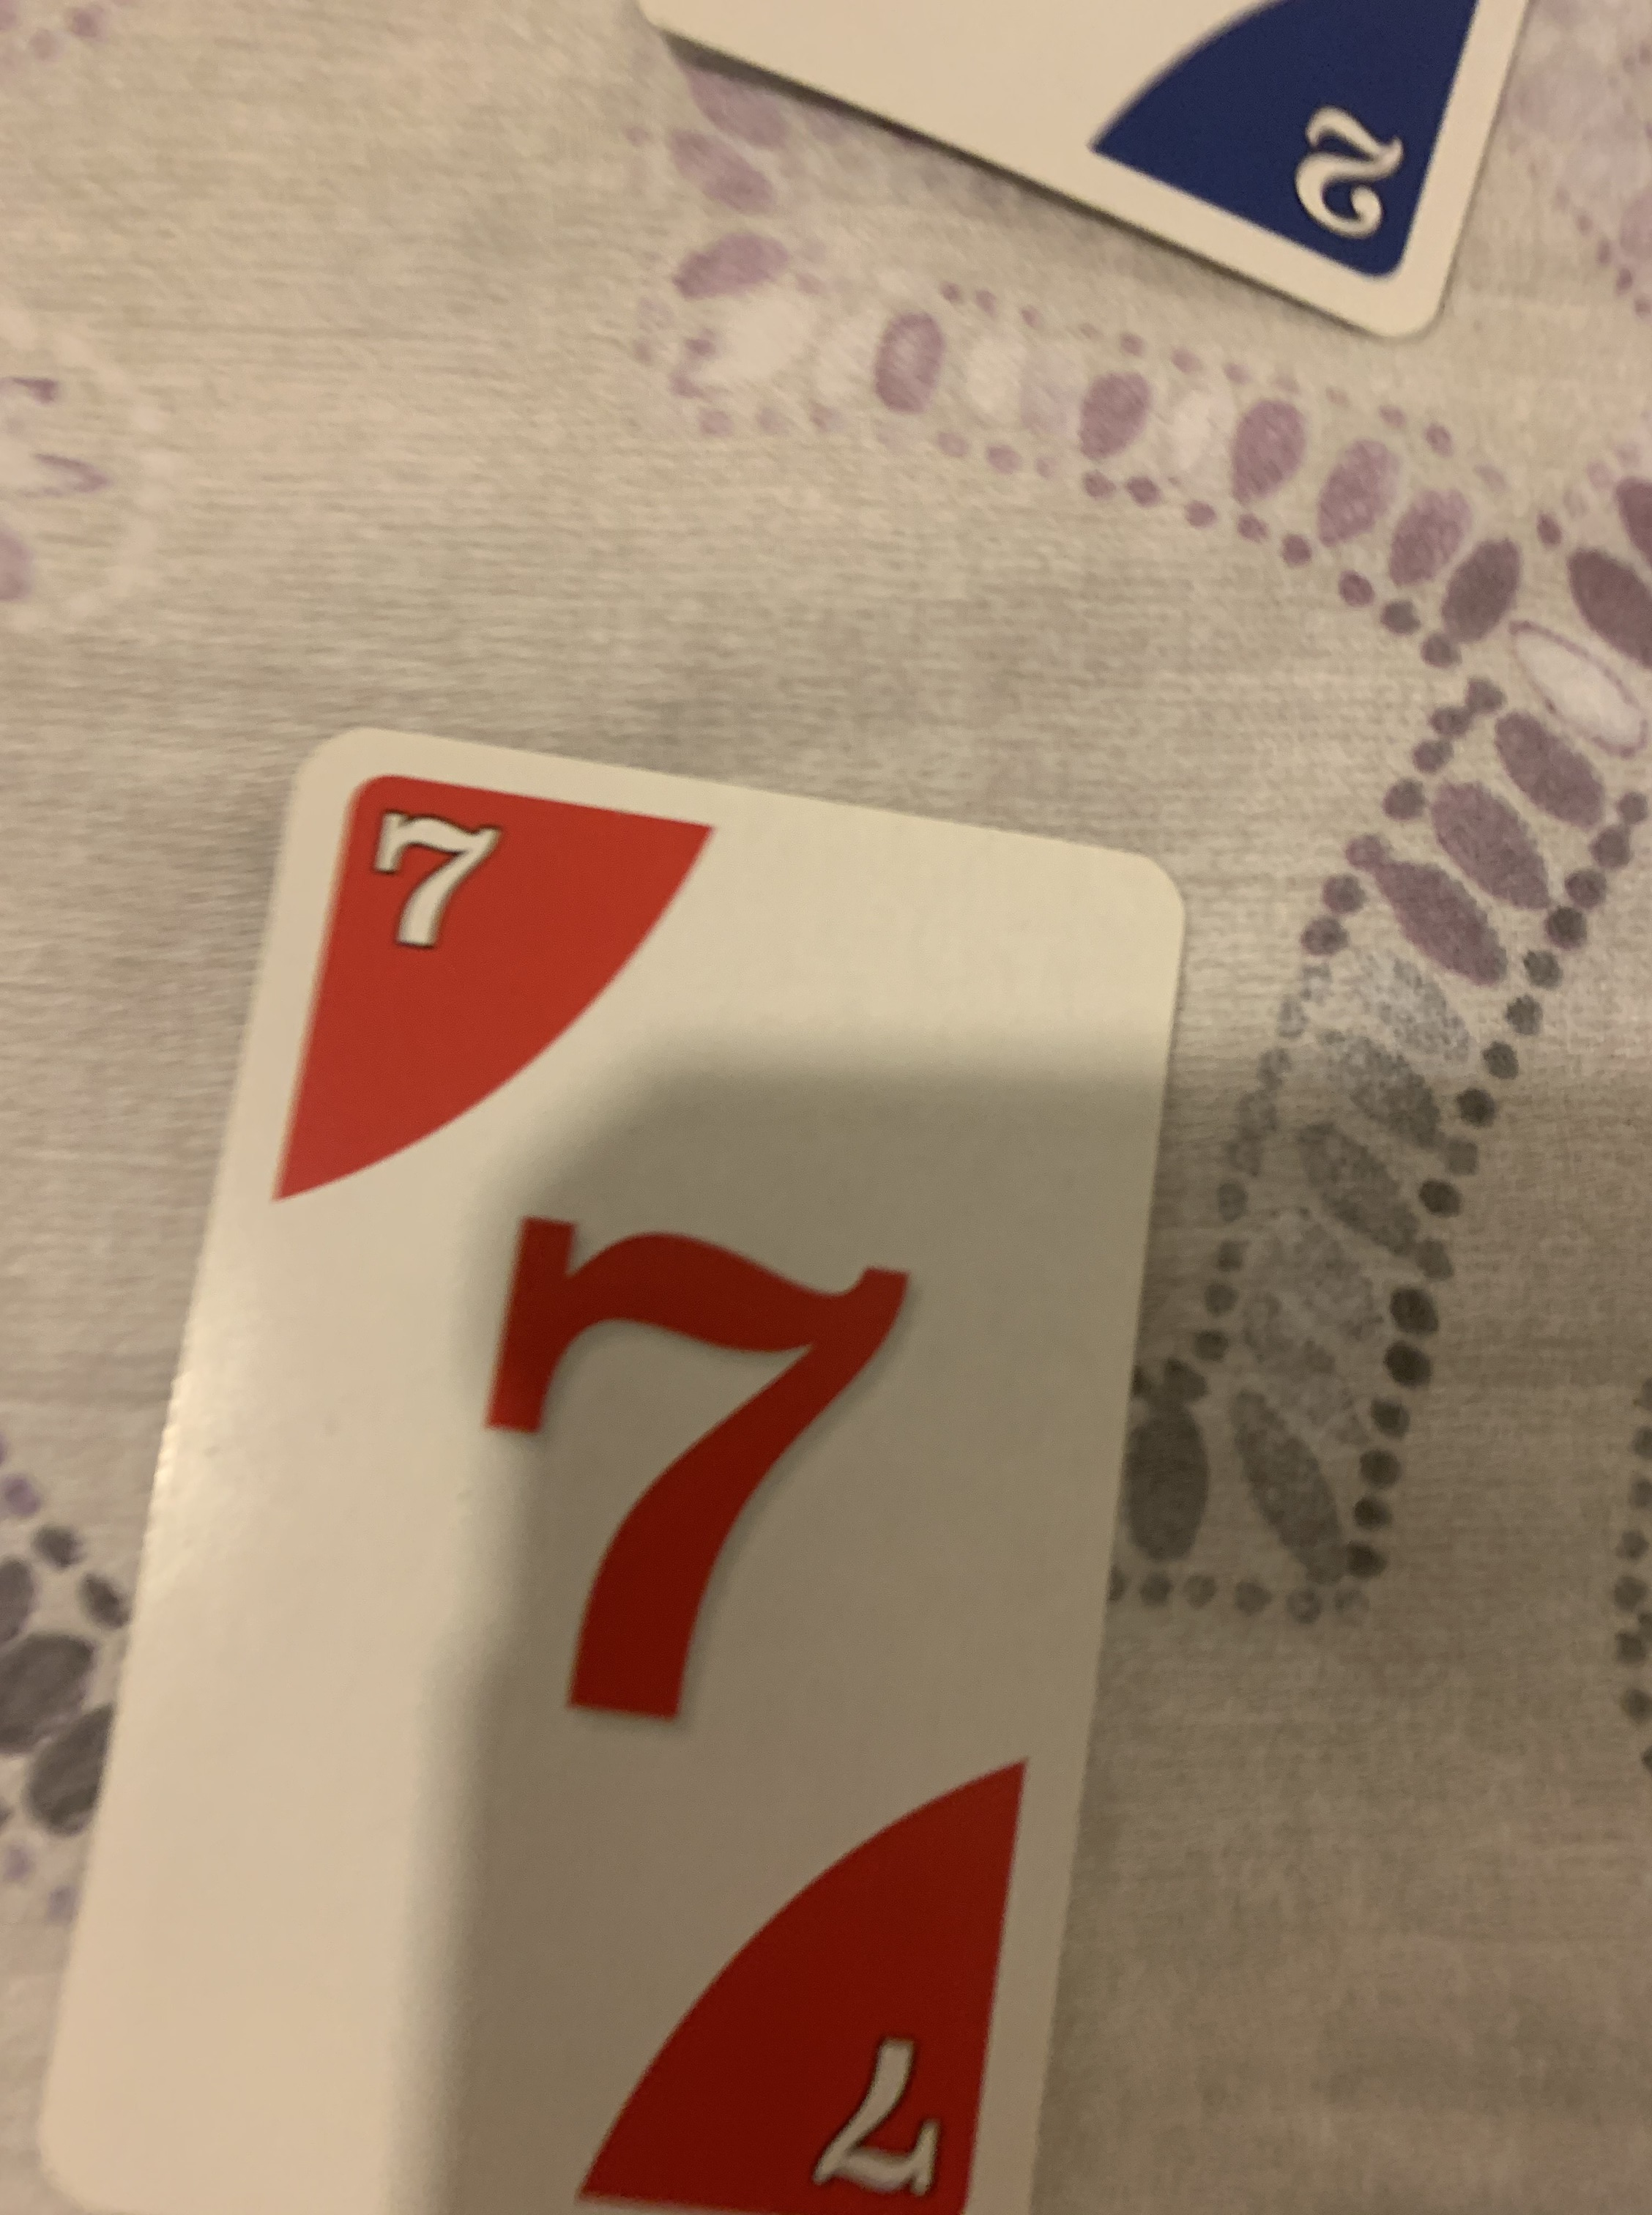seven: (38, 722, 1204, 2215)
